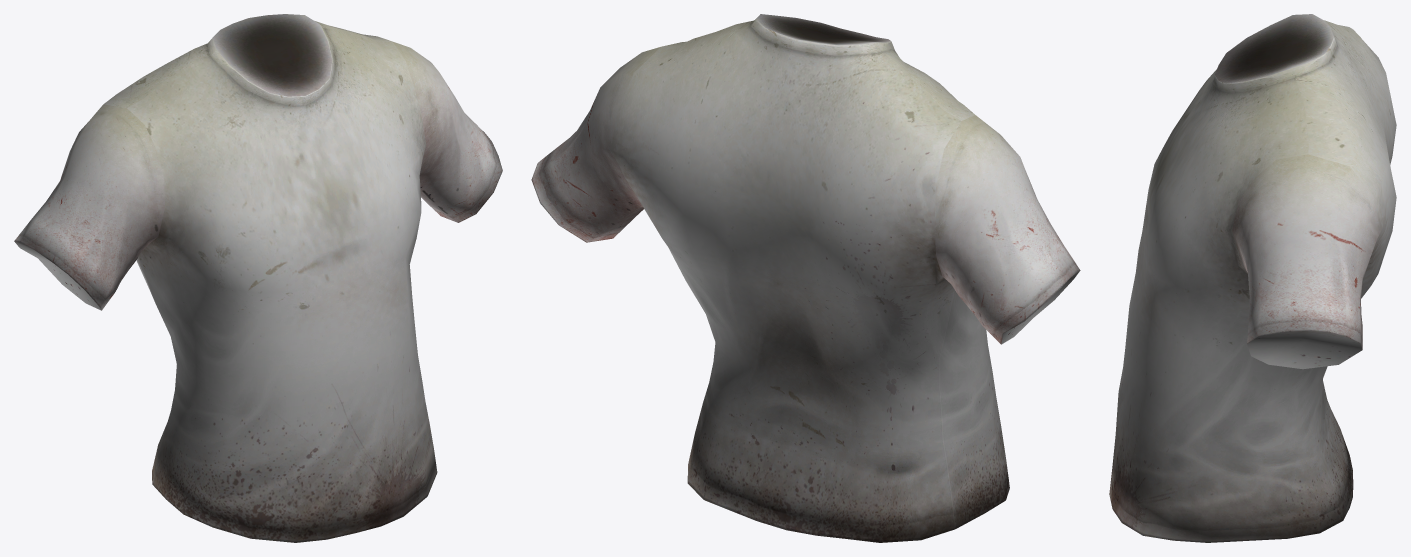
The model's file is SurvivorMale_Chest_Shirt_TintTshirt_LOD0.glb.
The picture shows the model from 3 angles, left to right: view 1: azimuth 30°, elevation 25°; view 2: azimuth 150°, elevation 25°; view 3: azimuth 270°, elevation 25°; orthographic projection. The views are drawn at different scales.
Visible parts, largest first — view 1: Hoodie; view 2: Hoodie; view 3: Hoodie.
Boxes of the visible parts, box(x1,y1,x2,y2) form: Hoodie: box(14, 14, 502, 542); Hoodie: box(531, 14, 1080, 542); Hoodie: box(1109, 14, 1396, 542).
Bounding box in the file's own units: 0.6856 × 0.6177 × 0.3507.
1 material, 1 textured.
